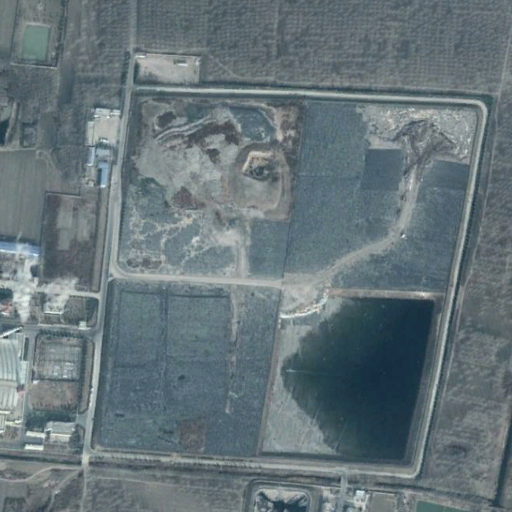lf: (90, 89, 486, 480)
